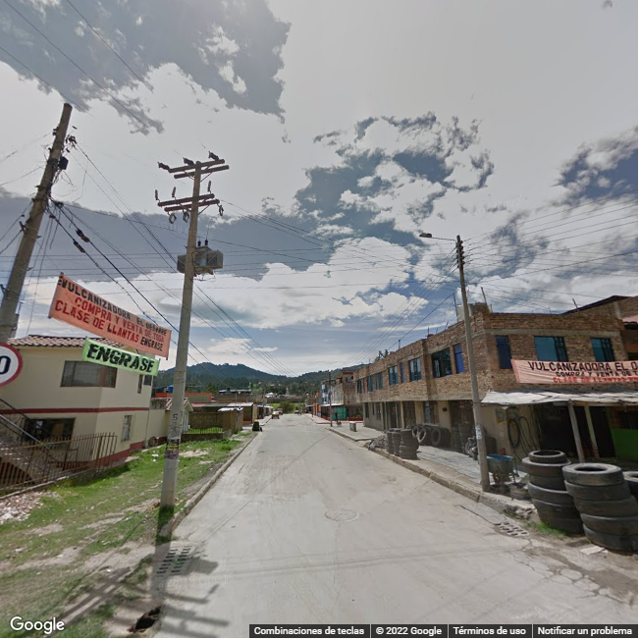D00: (421, 579, 491, 620), (498, 546, 566, 583), (332, 512, 339, 586)
